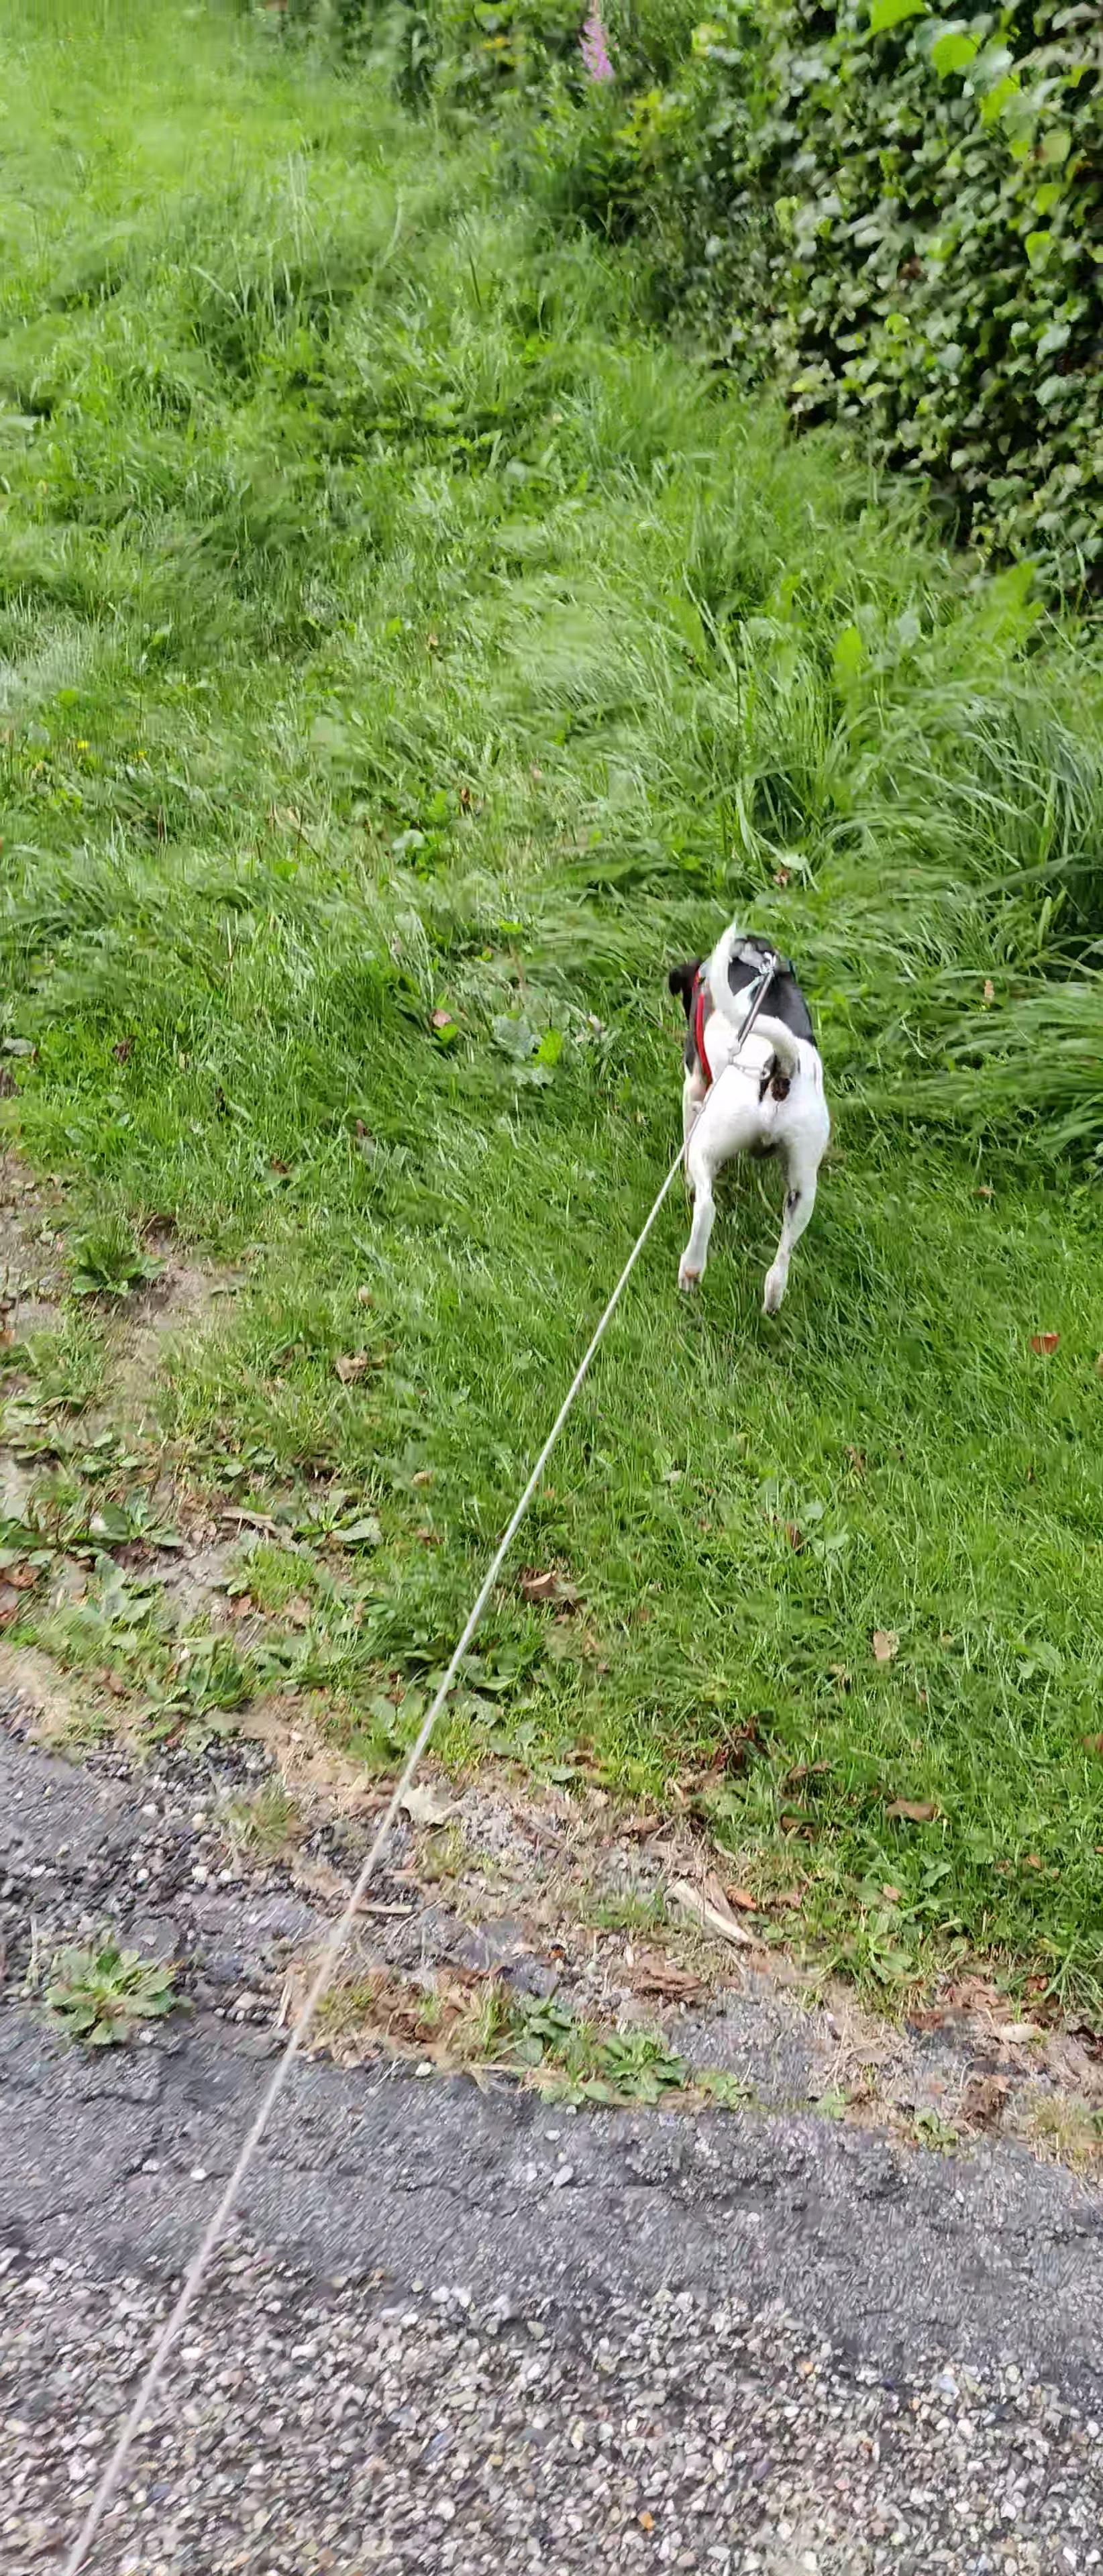Dog: (610, 885, 870, 1332)
